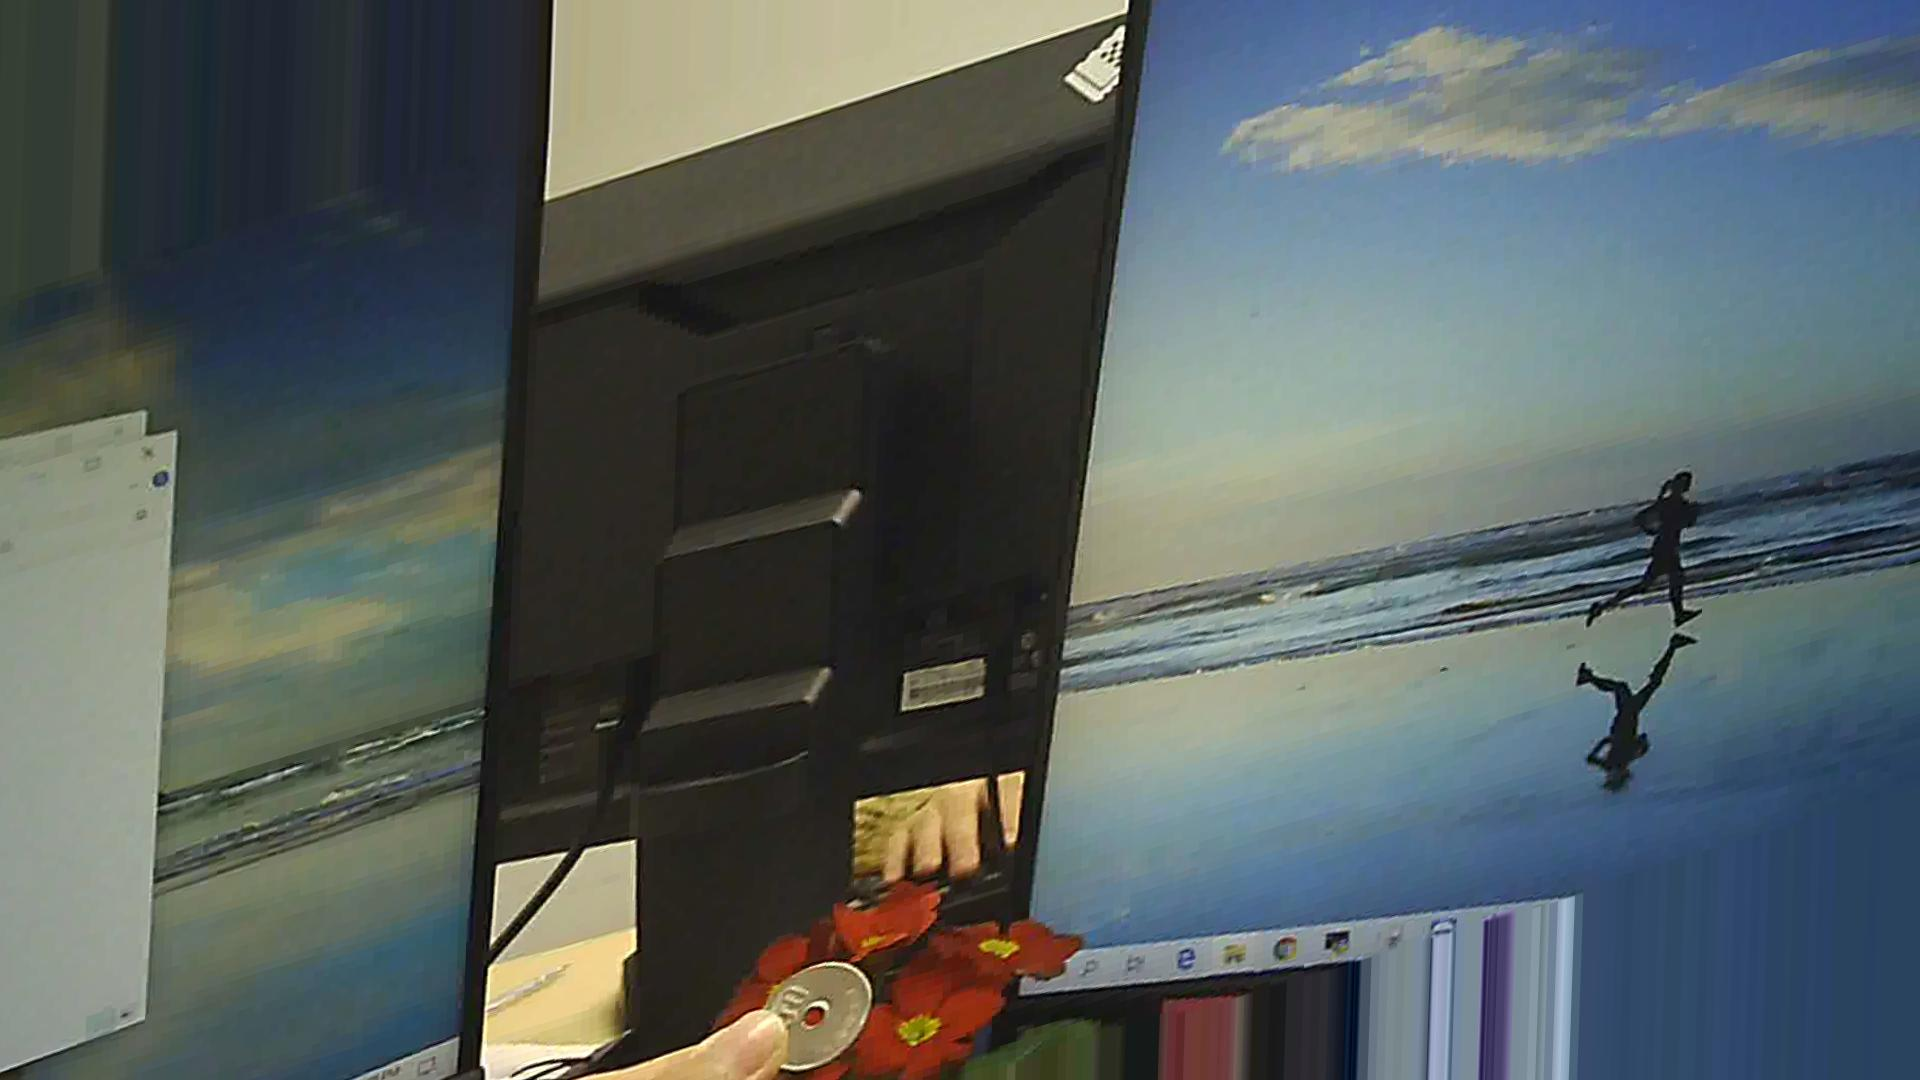50 Yen: (748, 952, 884, 1065)
